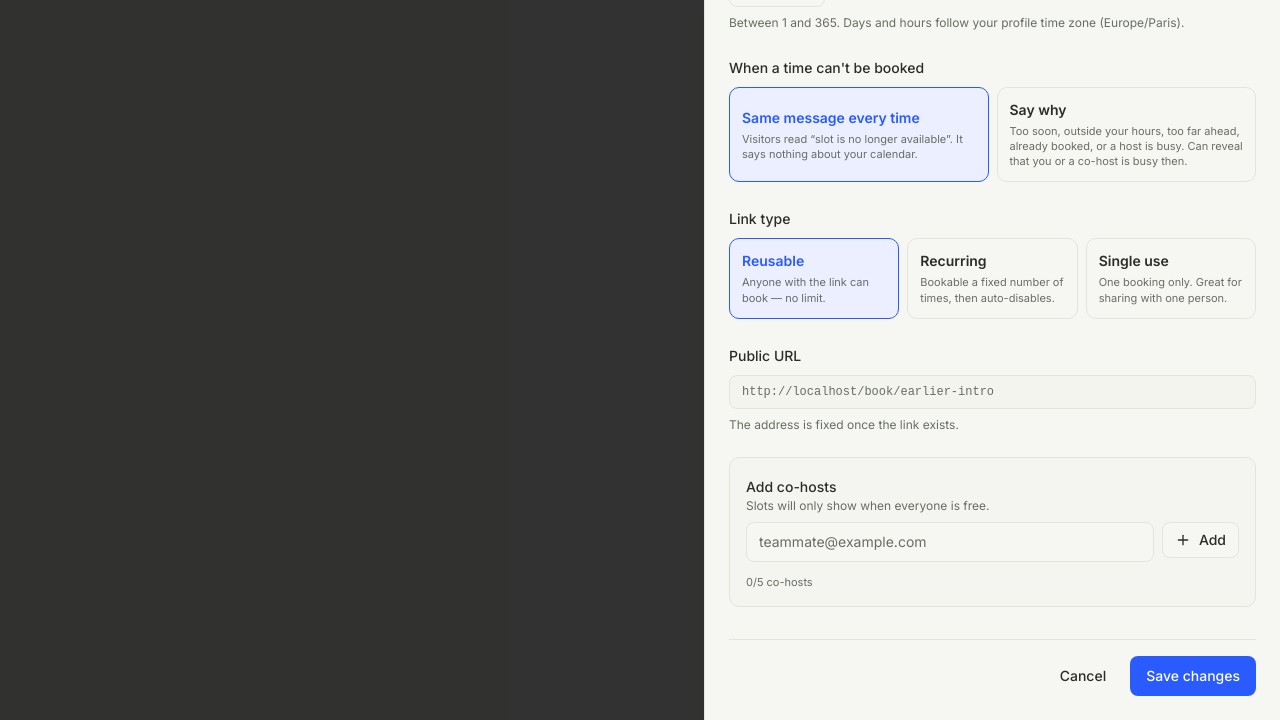
the attempt key (contract §7.2) › AC-18: an edit of an existing link never carries a key
Later steps or results of the test are not shown.
(page scrolled)
expect the field named "Co-host email" is enabled: met, box [746,522,1154,562]
Step 1. Click the button "Save changes" → point(1193, 676), box [1130,656,1256,696]
(page scrolled)
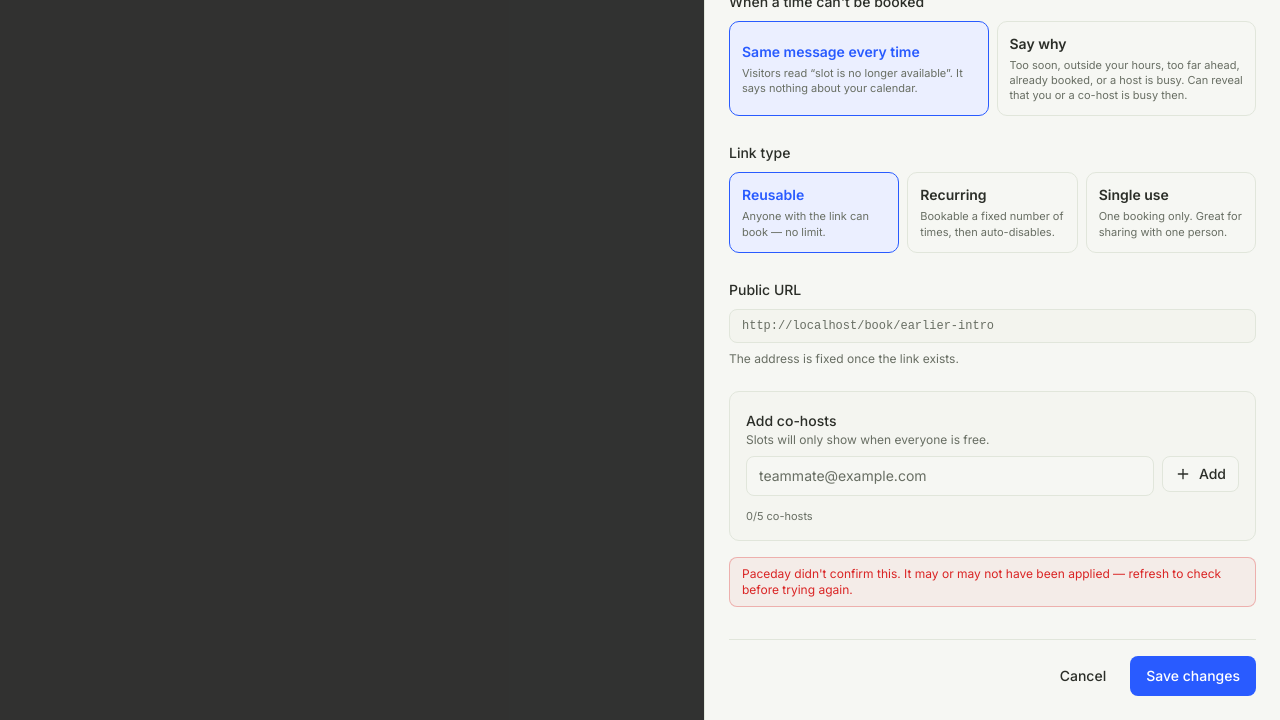
expect the message shows "Paceday didn't confirm this. It may or may not have been applied — refresh to check before trying again.": met, box [742,566,1221,597]
